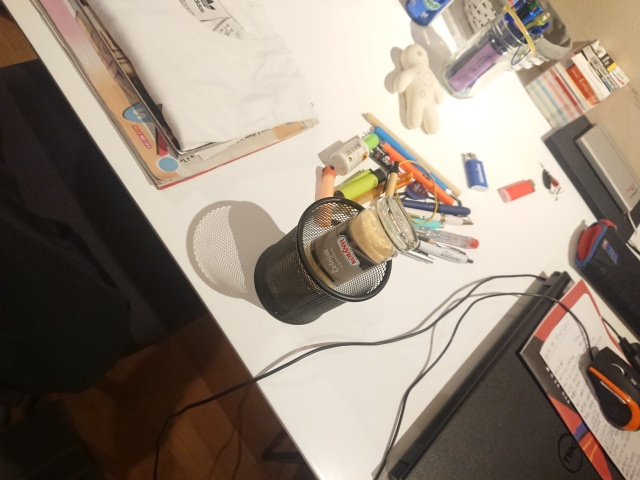Kotanyi Garlic Granules 70g: (265, 194, 420, 309)
